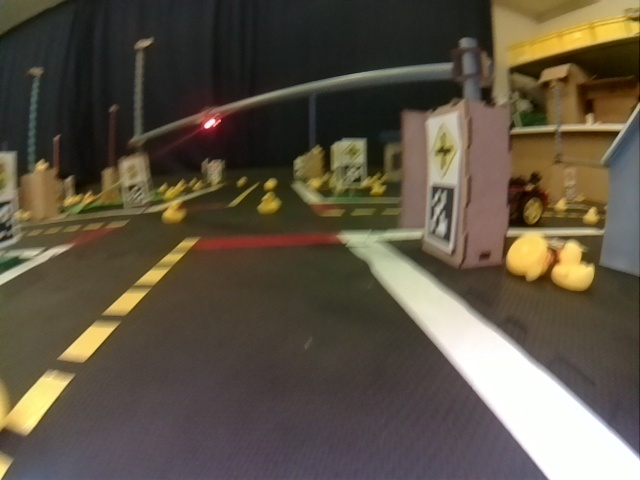Duckie: (506, 235, 553, 279), (556, 242, 594, 287), (162, 202, 187, 223), (258, 192, 280, 212)
Intersection sign: (427, 119, 456, 176), (345, 140, 365, 162)
QR code: (427, 183, 456, 244), (343, 165, 364, 186), (125, 185, 145, 206)
